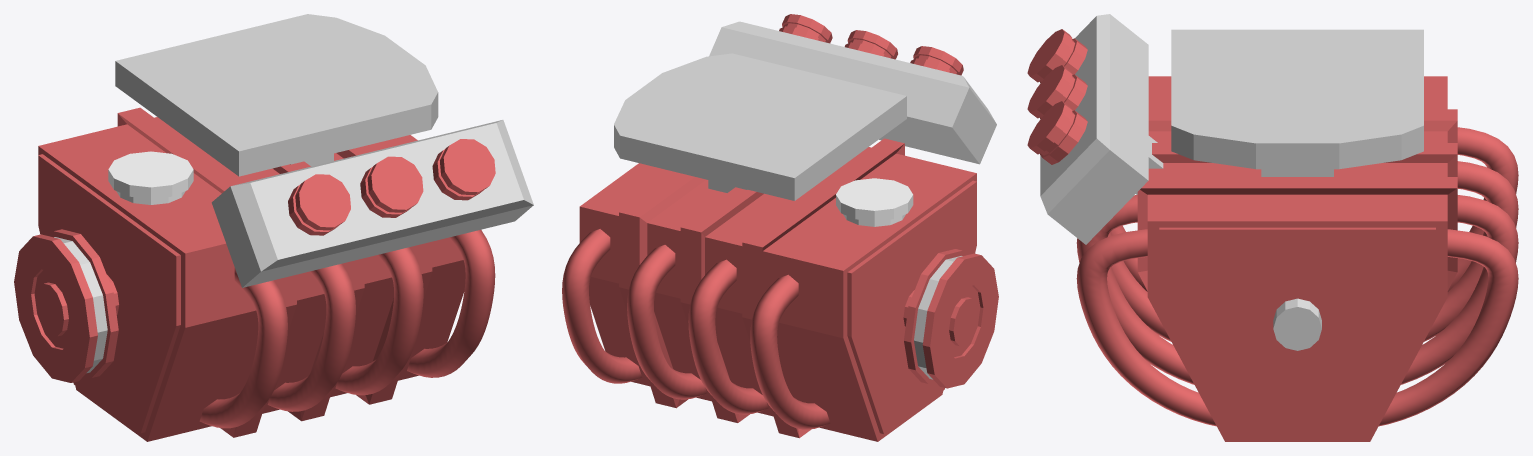
File: car_engine.glb
3 renders of one model, left to right at view 1: azimuth 30°, elevation 25°; view 2: azimuth 150°, elevation 25°; view 3: azimuth 270°, elevation 25°, orthographic. The views are drawn at different scales.
Parts seen in each view (by area): view 1: Cube.003, Cube.007, Cube.015, Cylinder.012, Cylinder.021, NurbsPath.010, NurbsPath.011, NurbsPath.009, NurbsPath.008, Cylinder.011, Cylinder.013; view 2: Cube.003, Cube.007, Cube.015, Cylinder.012, NurbsPath.010, NurbsPath.009, NurbsPath.011, NurbsPath.008, Cylinder.011, Cylinder.021, Cylinder.013; view 3: Cube.003, Cube.007, Cube.015, NurbsPath.011, NurbsPath.009, Cylinder.021, NurbsPath.008, NurbsPath.010, Cylinder.008.
Part boxes in pixels (x1,y1,x2,y2): Cube.003: (38, 107, 465, 441); Cube.007: (115, 14, 438, 176); Cube.015: (211, 120, 533, 287); Cylinder.012: (14, 229, 118, 382); Cylinder.021: (288, 139, 495, 235); NurbsPath.010: (199, 268, 287, 428); NurbsPath.011: (407, 230, 495, 377); NurbsPath.009: (335, 247, 423, 395); NurbsPath.008: (267, 263, 355, 411); Cylinder.011: (108, 151, 193, 204); Cylinder.013: (54, 237, 107, 373); Cube.003: (579, 138, 976, 441); Cube.007: (614, 53, 906, 200); Cube.015: (709, 21, 996, 164); Cylinder.012: (903, 249, 998, 388); NurbsPath.010: (750, 274, 830, 429); NurbsPath.009: (627, 245, 706, 399); NurbsPath.011: (562, 229, 642, 383); NurbsPath.008: (688, 259, 768, 414); Cylinder.011: (836, 178, 913, 226); Cylinder.021: (779, 14, 963, 75); Cylinder.013: (914, 256, 962, 379); Cube.003: (1137, 76, 1457, 441); Cube.007: (1171, 29, 1423, 176); Cube.015: (1040, 14, 1163, 244); NurbsPath.011: (1076, 229, 1518, 426); NurbsPath.009: (1076, 195, 1518, 384); Cylinder.021: (1027, 29, 1087, 164); NurbsPath.008: (1108, 161, 1518, 341); NurbsPath.010: (1111, 127, 1518, 291); Cylinder.008: (1273, 298, 1321, 350).
Size of the model in its own units: 0.8863 by 0.723 by 0.9908.
